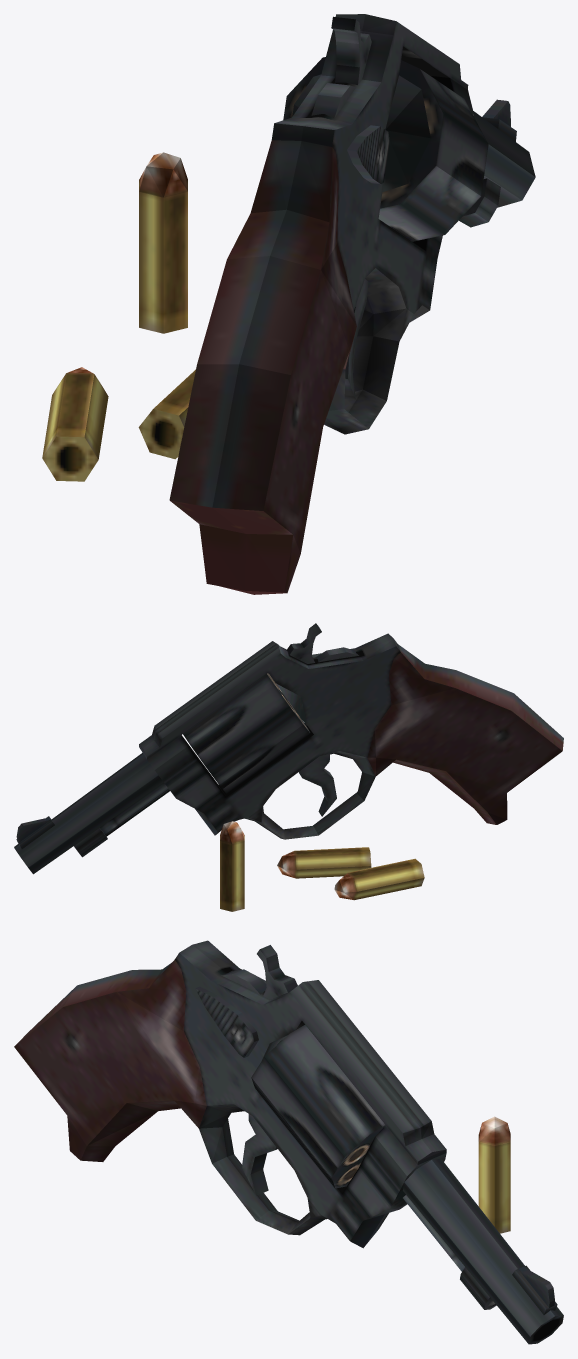
Rendered from icon1.ico.obj.
3 renders of one model, top to bottom at view 1: azimuth 30°, elevation 25°; view 2: azimuth 150°, elevation 25°; view 3: azimuth 270°, elevation 25°, orthographic. The views are drawn at different scales.
Size of the model in its own units: 4.74 by 2.7 by 4.75.
1 material, 1 textured.
